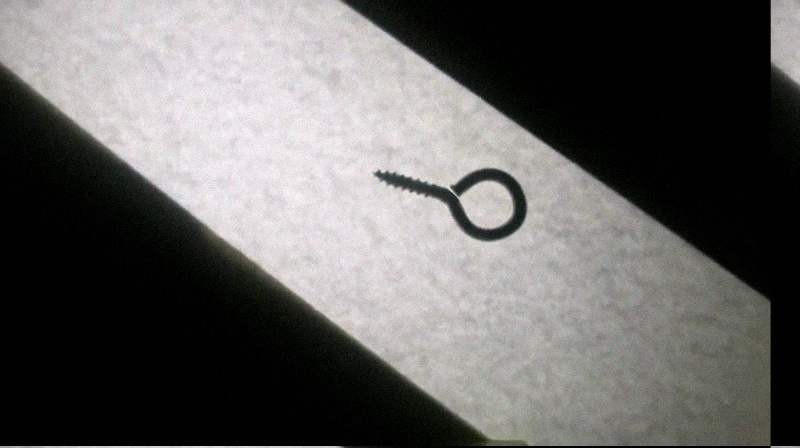O001: (370, 165, 531, 244)
